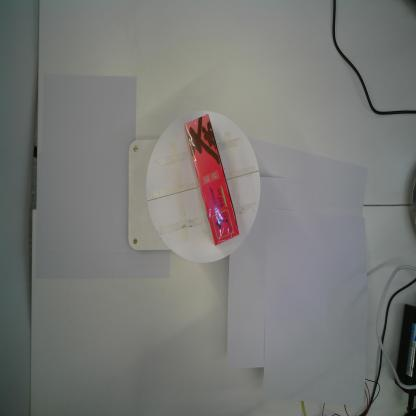Instant Drink: (184, 112, 241, 247)
